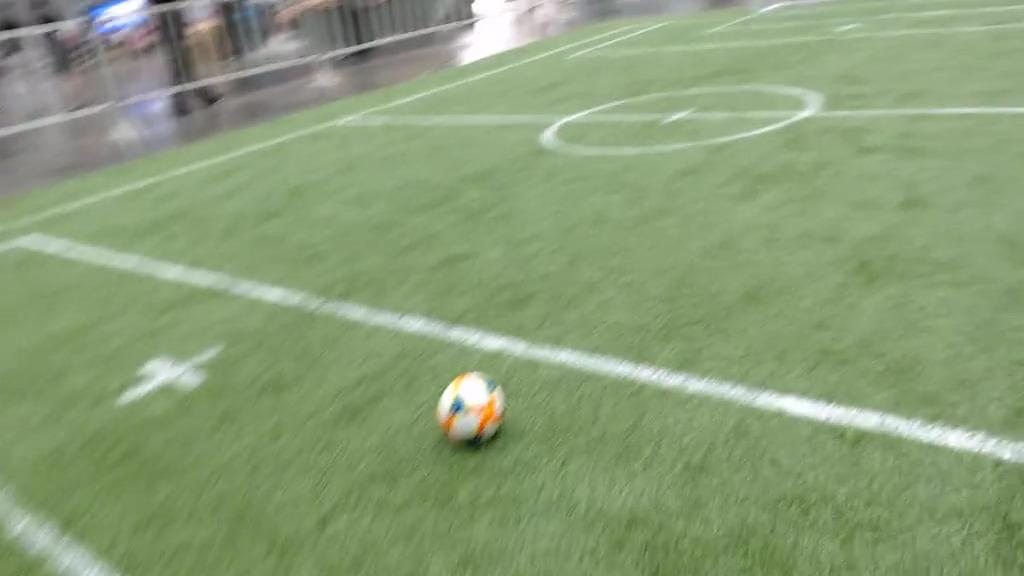ball: (437, 369, 505, 447)
